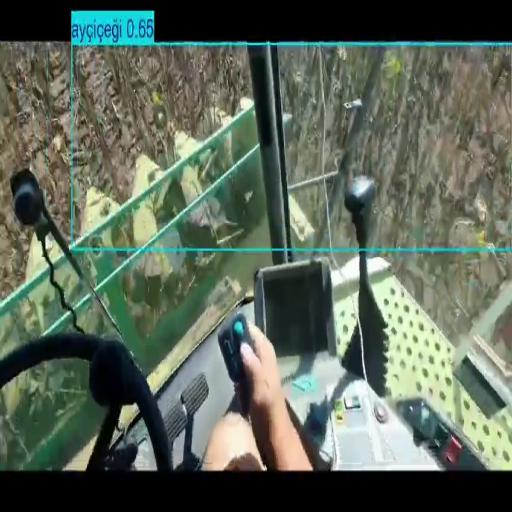ayc: (0, 43, 511, 468), (0, 360, 103, 468)
